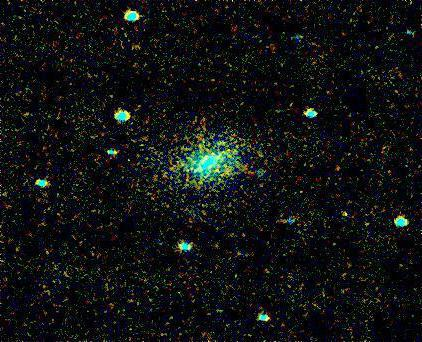star: (354, 208, 384, 238)
